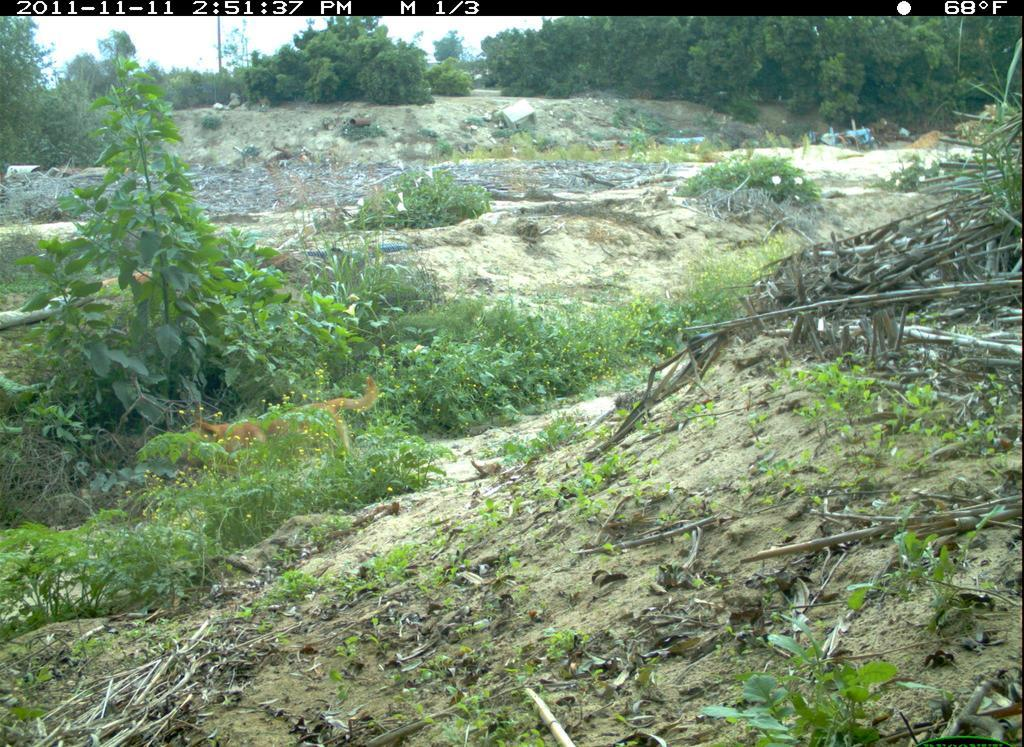dog: (177, 385, 386, 501)
